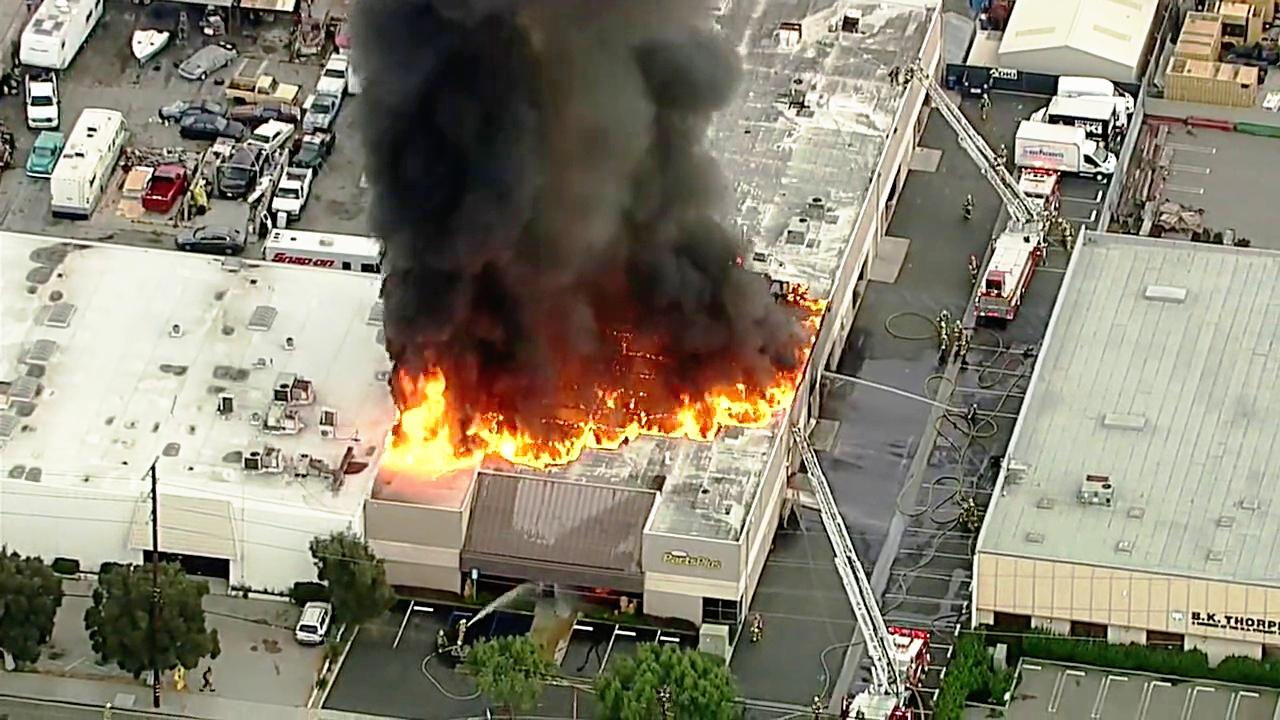fire: (377, 369, 462, 476), (471, 404, 592, 479)
smoke: (418, 0, 713, 328)
